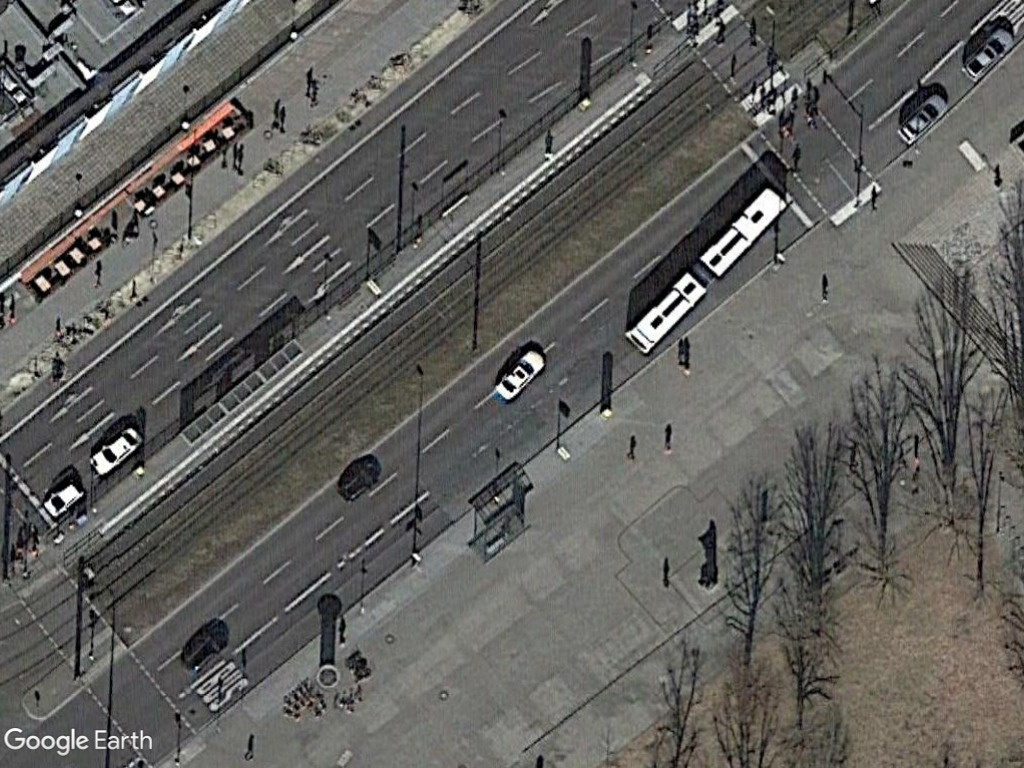bus: (696, 181, 799, 280), (624, 269, 712, 360)
car: (492, 344, 550, 405), (87, 421, 146, 480), (960, 23, 1015, 85), (896, 88, 951, 147), (42, 474, 90, 520)
